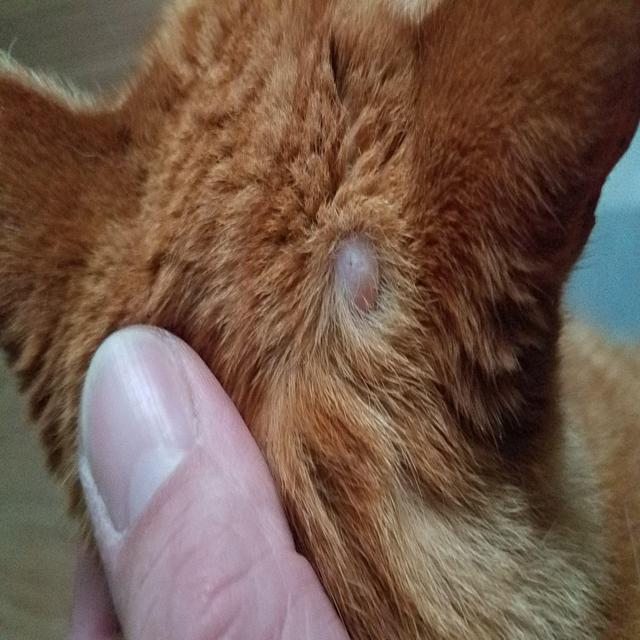lump_and_bump: (330, 231, 390, 320)
